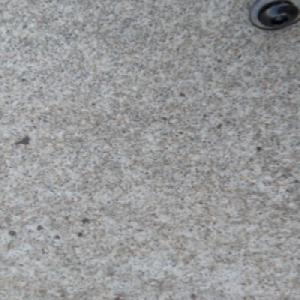BoltWasher: (246, 0, 299, 34)
